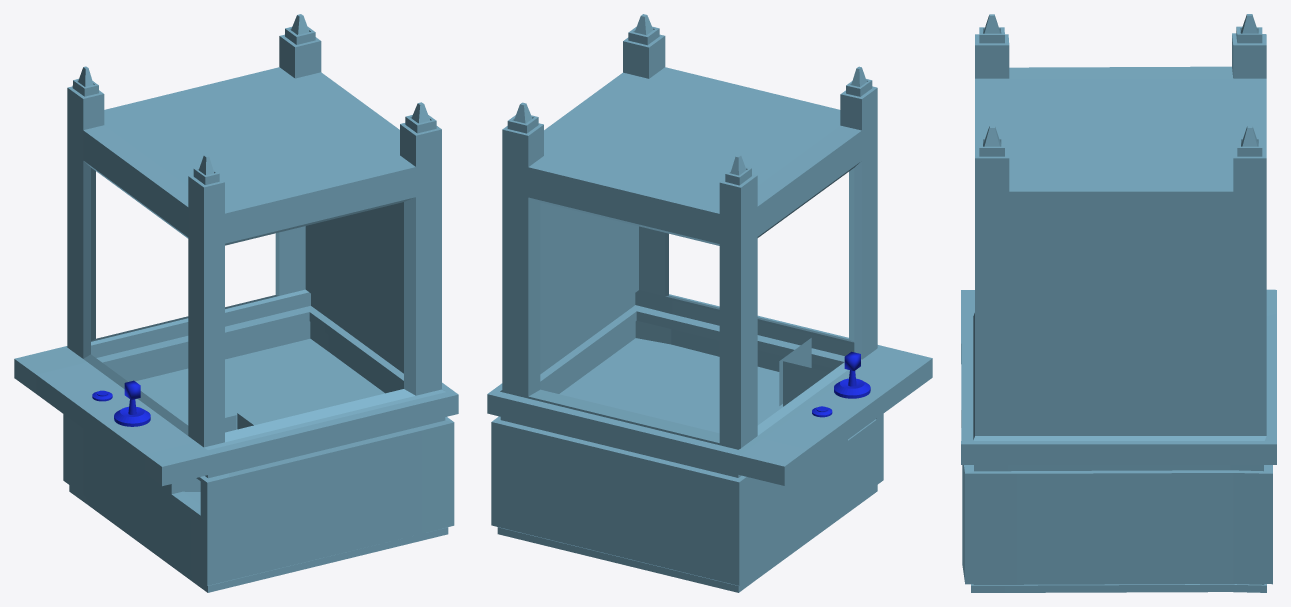
Rendered from Machine-pince.glb.
The picture shows the model from 3 angles, left to right: view 1: azimuth 30°, elevation 25°; view 2: azimuth 150°, elevation 25°; view 3: azimuth 270°, elevation 25°; orthographic projection. The views are drawn at different scales.
Visible parts, largest first — view 1: Machine à pinces, Plancher; view 2: Machine à pinces, Plancher, Mur_cote, Mur_avant; view 3: Machine à pinces.
Boxes of the visible parts, <box> form: Machine à pinces: <box>14,14,458,592</box>; Plancher: <box>135,338,384,429</box>; Machine à pinces: <box>487,14,932,592</box>; Plancher: <box>559,338,783,433</box>; Mur_cote: <box>783,361,829,405</box>; Mur_avant: <box>779,338,811,405</box>; Machine à pinces: <box>961,14,1276,592</box>.
Bounding box in the file's own units: 13.8 × 19 × 11.9.
